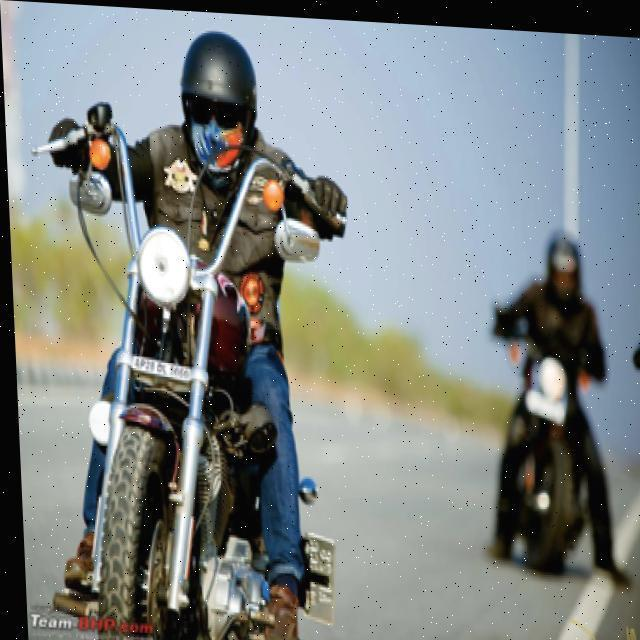Helmet: (176, 20, 260, 183)
